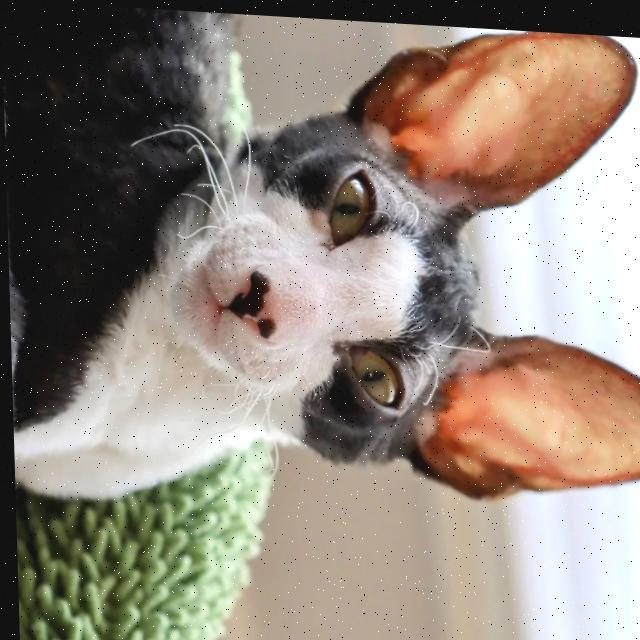Cornish Rex: (0, 0, 640, 585)
